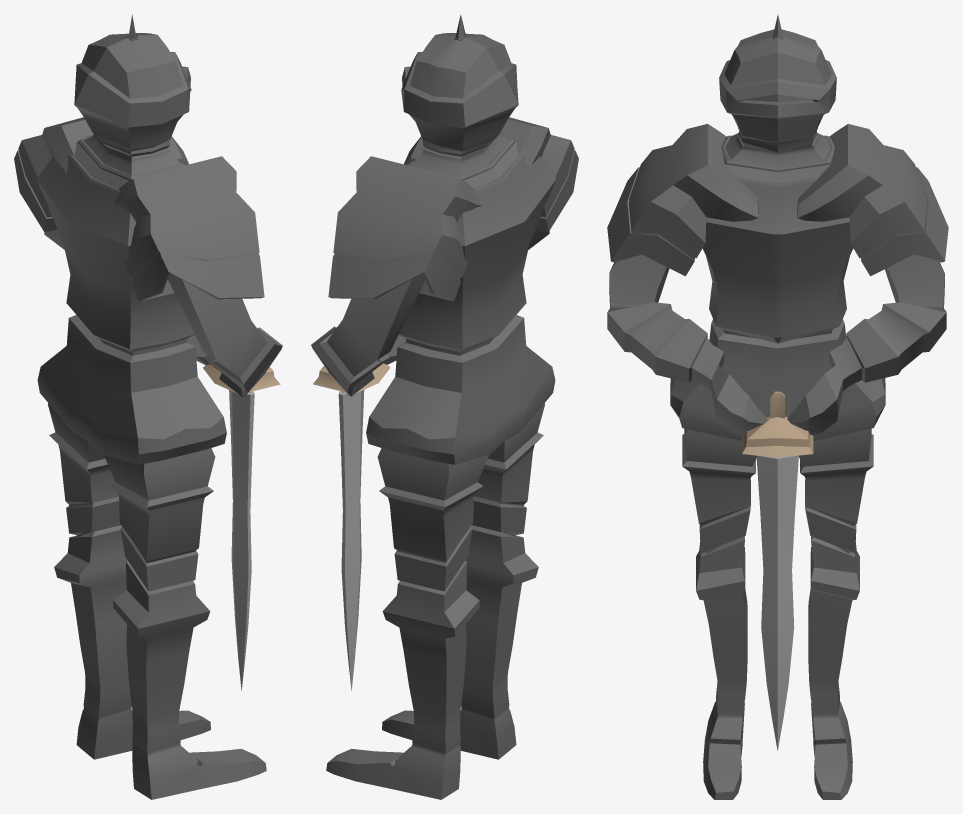
Rendered from GUARD2.fbx.
The picture shows the model from 3 angles, left to right: view 1: azimuth 30°, elevation 25°; view 2: azimuth 150°, elevation 25°; view 3: azimuth 270°, elevation 25°; orthographic projection. The views are drawn at different scales.
Parts seen in each view (by area): view 1: Body.001; view 2: Body.001; view 3: Body.001.
Boxes of the visible parts, <box> form: Body.001: <box>14,14,282,799</box>; Body.001: <box>311,14,578,799</box>; Body.001: <box>607,15,948,799</box>.
Bounding box in the file's own units: 118 × 427 × 179.
